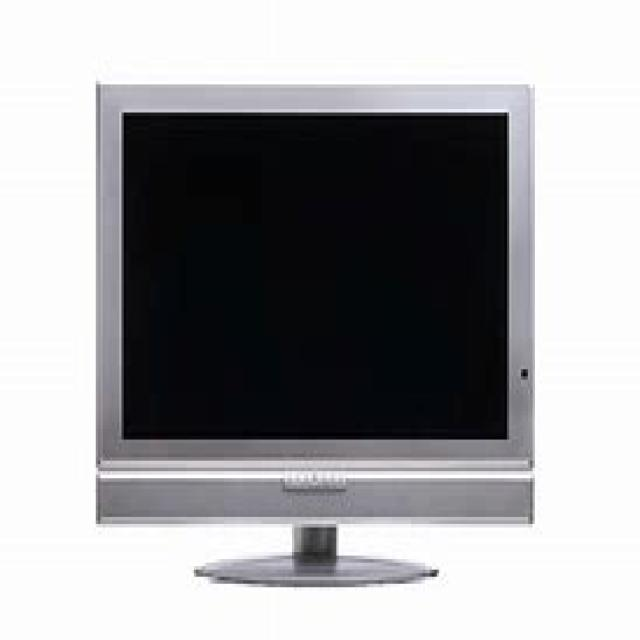tv: (93, 81, 535, 584)
